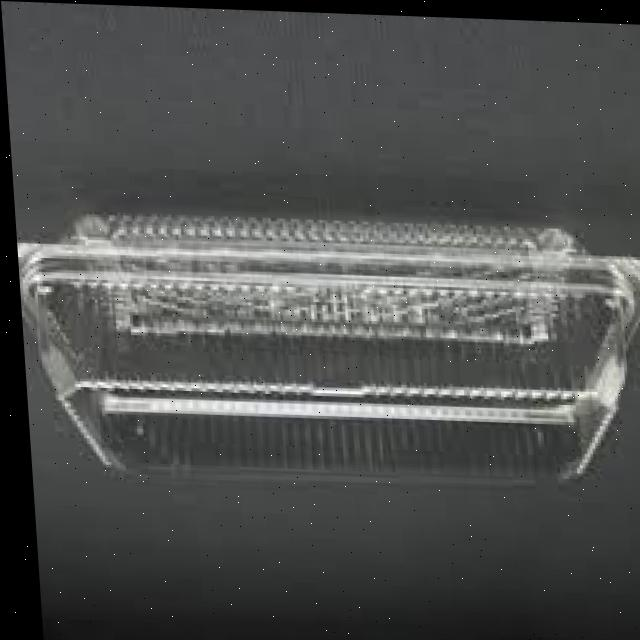disposable: (8, 156, 640, 550)
